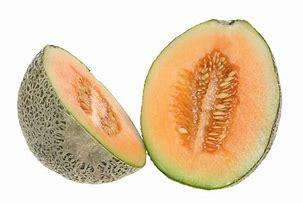Melon Ripe: (141, 17, 282, 191), (17, 43, 147, 184)
